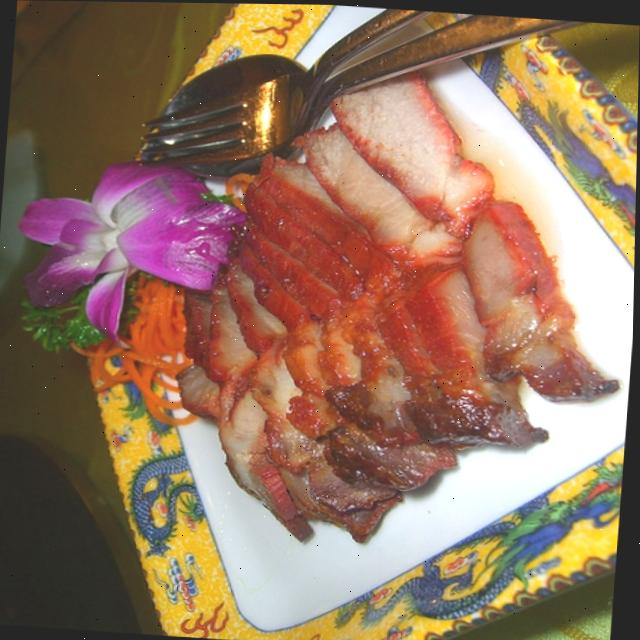烧串烤肉: (104, 1, 600, 582)
